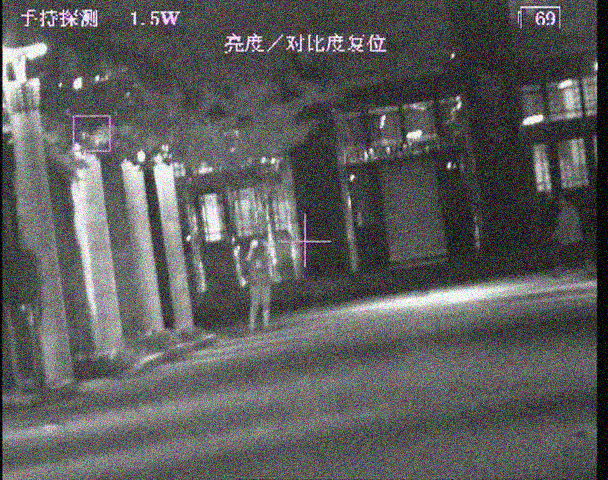my: (250, 238, 259, 246)
